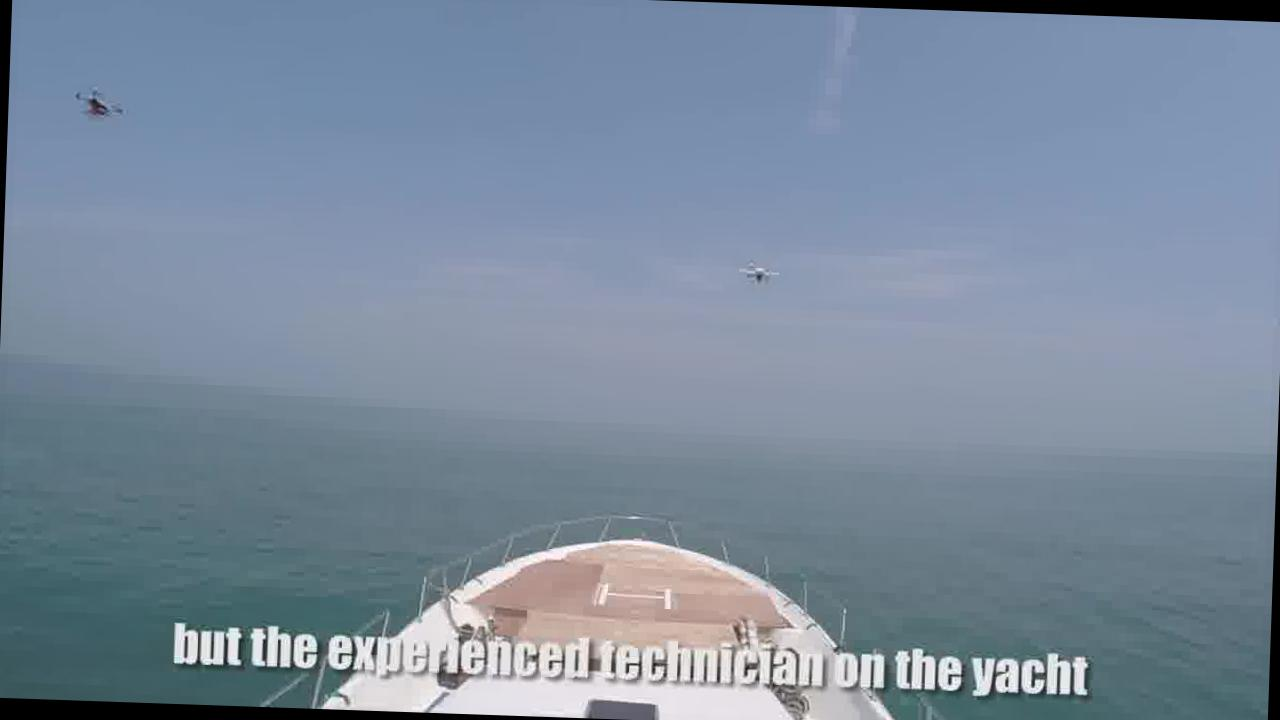drone: (67, 82, 126, 122), (732, 252, 782, 286)
